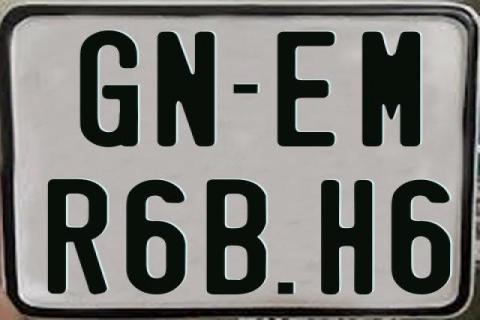0: (389, 177, 453, 297), (125, 178, 184, 294)
B: (203, 178, 269, 294)
E: (276, 32, 335, 152)
G: (79, 30, 138, 150)
H: (321, 179, 375, 297)
M: (359, 31, 418, 147)
N: (158, 31, 218, 151)
R: (45, 178, 109, 298)
